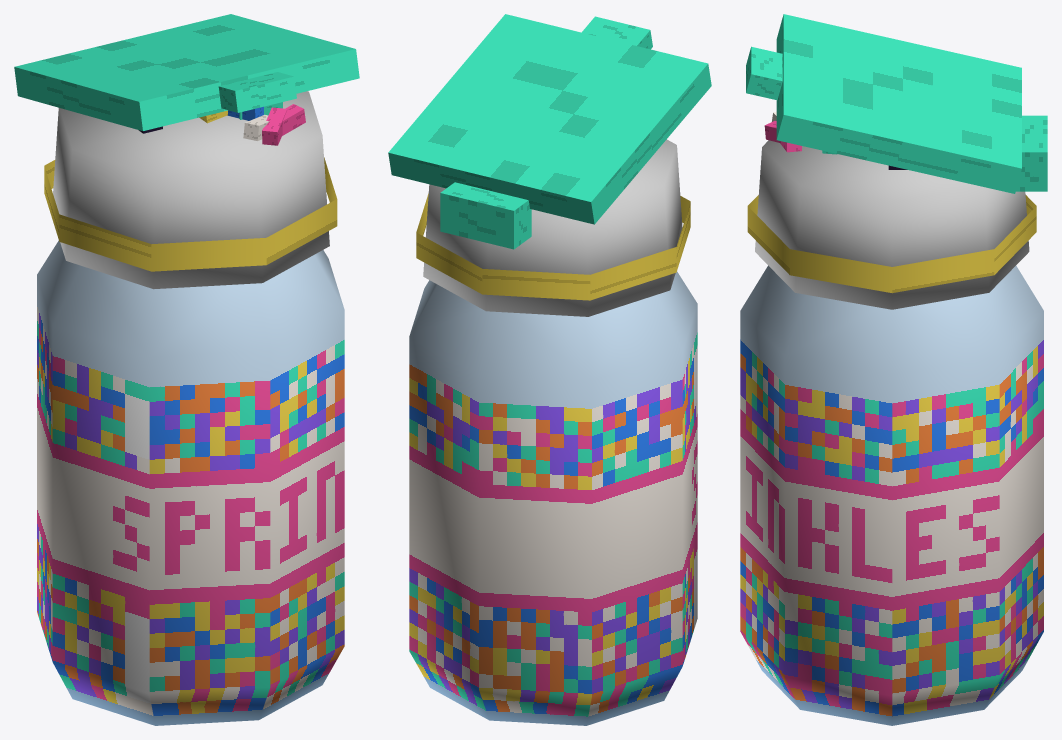
Rendered from Sprinkle Jar.fbx.
The picture shows the model from 3 angles, left to right: view 1: azimuth 30°, elevation 25°; view 2: azimuth 150°, elevation 25°; view 3: azimuth 270°, elevation 25°; orthographic projection. The views are drawn at different scales.
Visible parts, largest first — view 1: Sprinkle Jar jar, Sprinkle Jar lid, Sprinkle Jar flip cap.001, Sprinkle Jar lid band, Sprinkle Jar cap tab, Sprinkle Jar sprinkle 5; view 2: Sprinkle Jar jar, Sprinkle Jar flip cap.001, Sprinkle Jar lid, Sprinkle Jar lid band, Sprinkle Jar cap hinge, Sprinkle Jar cap tab; view 3: Sprinkle Jar jar, Sprinkle Jar flip cap.001, Sprinkle Jar lid, Sprinkle Jar lid band, Sprinkle Jar cap hinge, Sprinkle Jar cap tab.
Part boxes in pixels (x1,y1,x2,y2): Sprinkle Jar jar: (37,240,344,725); Sprinkle Jar lid: (53,91,329,289); Sprinkle Jar flip cap.001: (14,14,359,130); Sprinkle Jar lid band: (44,157,337,271); Sprinkle Jar cap tab: (218,72,296,112); Sprinkle Jar sprinkle 5: (262,107,287,145); Sprinkle Jar jar: (409,271,697,725); Sprinkle Jar flip cap.001: (388,14,711,224); Sprinkle Jar lid: (423,139,682,316); Sprinkle Jar lid band: (416,193,690,300); Sprinkle Jar cap hinge: (440,182,531,249); Sprinkle Jar cap tab: (582,16,652,49); Sprinkle Jar jar: (740,265,1043,725); Sprinkle Jar flip cap.001: (776,14,1021,193); Sprinkle Jar lid: (755,140,1029,309); Sprinkle Jar lid band: (747,195,1036,293); Sprinkle Jar cap hinge: (1016,115,1047,191); Sprinkle Jar cap tab: (746,46,782,100).
Size of the model in its own units: 0.084 by 0.1864 by 0.085.
